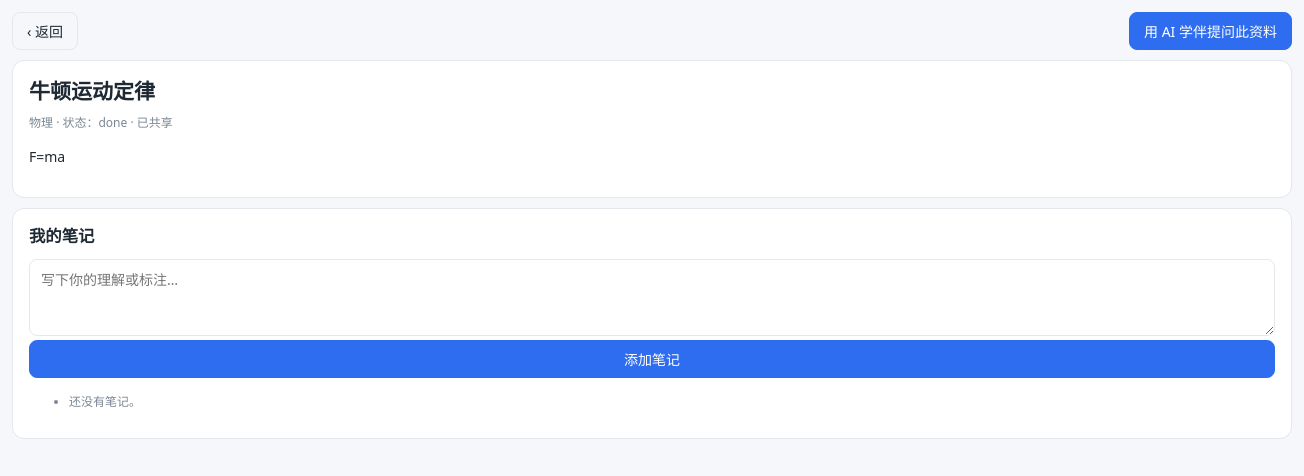
Test case: Reader › adds a note, clears the editor, and reloads material plus notes
Check: the list item "还没有笔记。" is shown, box x1=69 y1=393 x2=141 y2=410
In the text box with placeholder "写下你的理解或标注…": (652, 297) x1=29 y1=259 x2=1275 y2=336, type "注意统一单位"
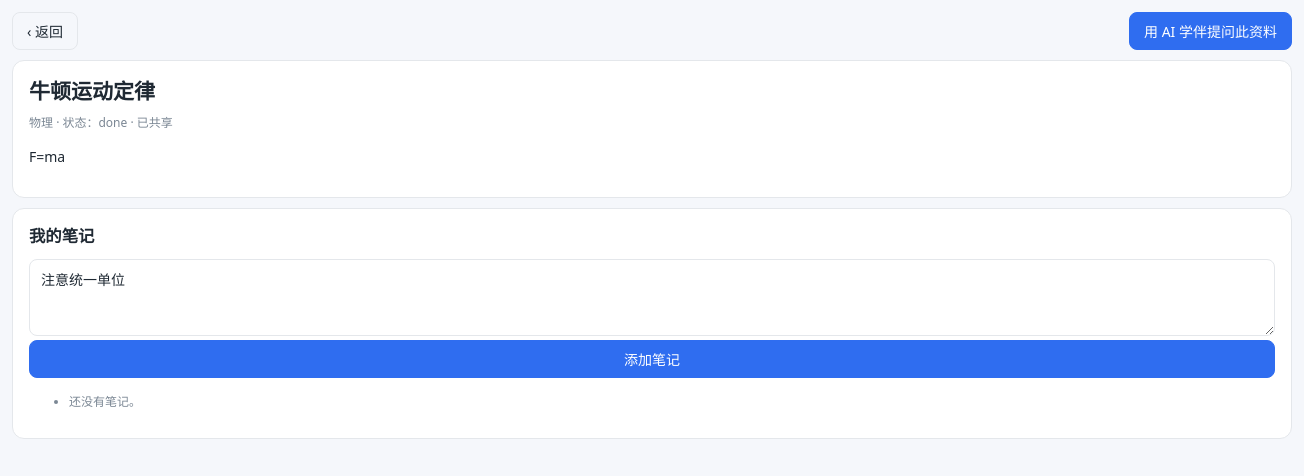
Submit the form, box x1=29 y1=255 x2=1275 y2=378
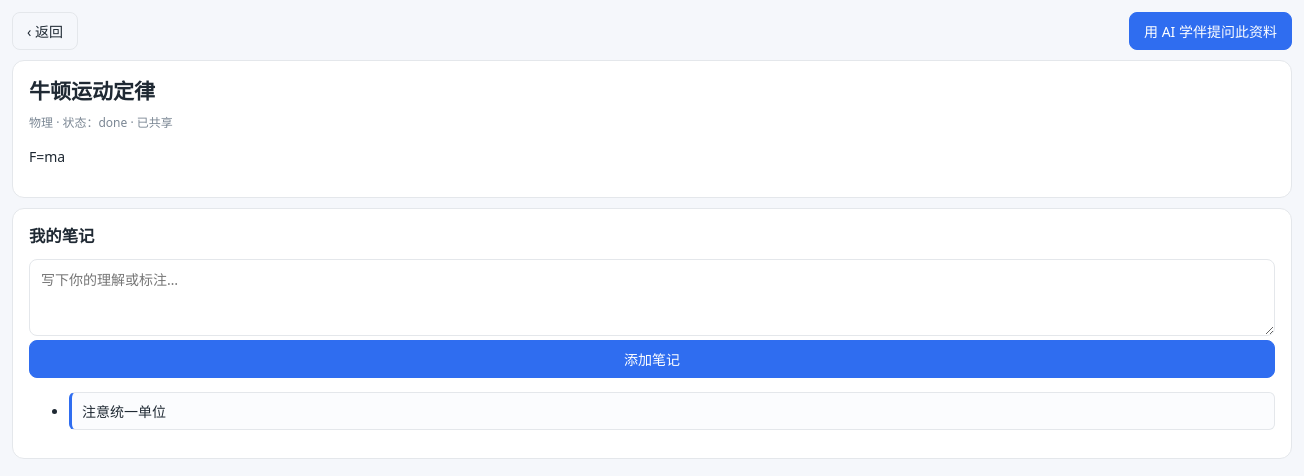
Check: the list item "注意统一单位" is shown, box x1=69 y1=392 x2=1275 y2=430
Check: the text box with placeholder "写下你的理解或标注…" is empty, box x1=29 y1=259 x2=1275 y2=336
